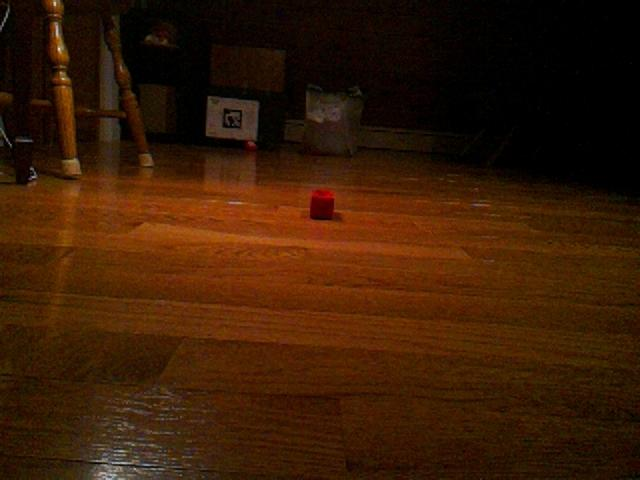red: (309, 187, 336, 221)
